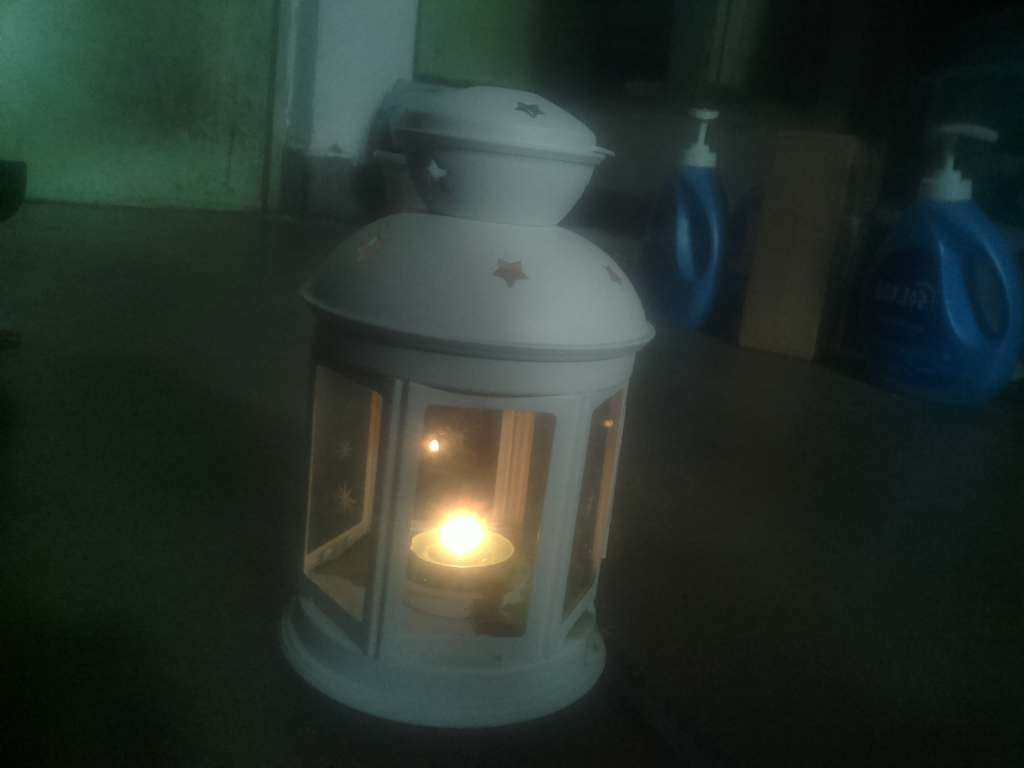fire: (402, 491, 525, 601)
